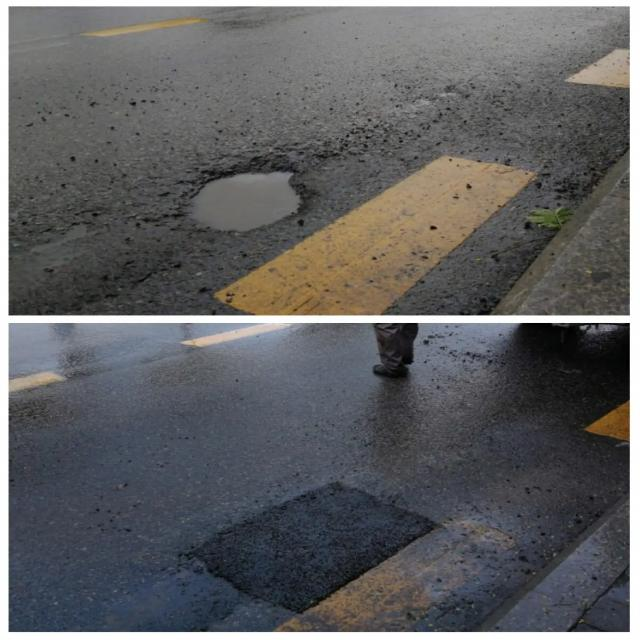Pothole: (168, 165, 308, 231)
